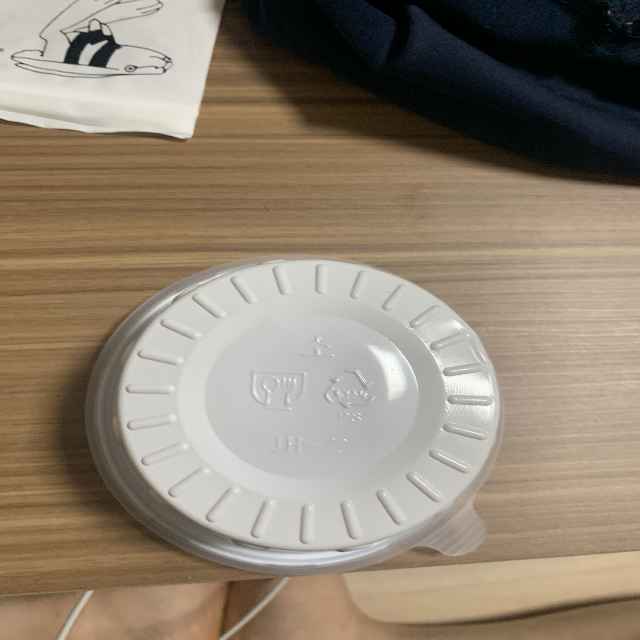ps: (321, 364, 381, 426)
